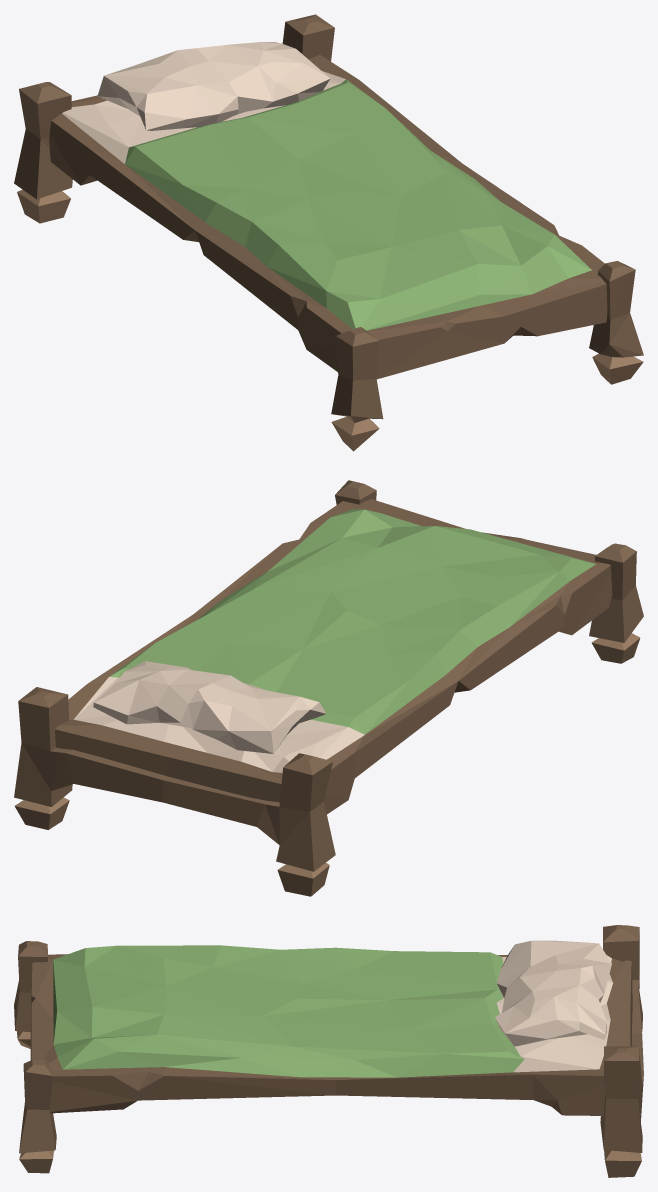
File: SingleBed_Green.fbx
The picture shows the model from 3 angles, top to bottom: view 1: azimuth 30°, elevation 25°; view 2: azimuth 150°, elevation 25°; view 3: azimuth 270°, elevation 25°; orthographic projection. The views are drawn at different scales.
Visible parts, largest first — view 1: SingleBed_Green; view 2: SingleBed_Green; view 3: SingleBed_Green.
Part boxes in pixels (x1,y1,x2,y2): SingleBed_Green: (14,14,643,451); SingleBed_Green: (14,480,643,896); SingleBed_Green: (14,925,643,1177).
Bounding box in the file's own units: 2.81 × 1.36 × 5.39.
